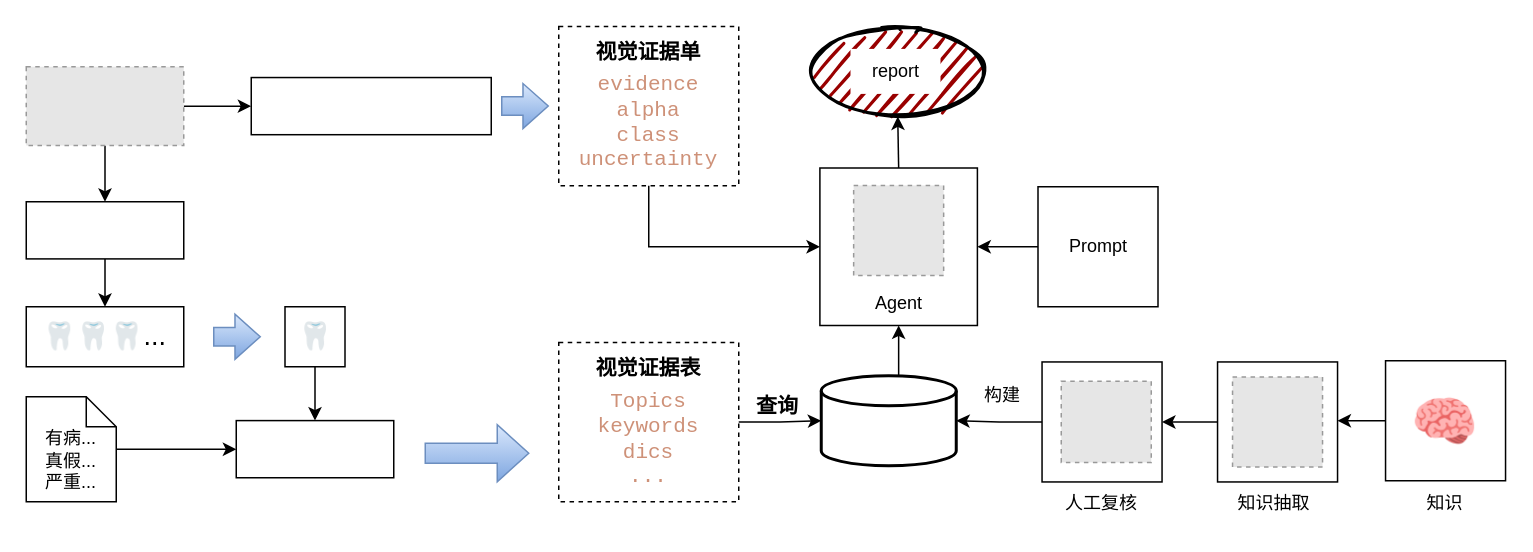
Image size: 1533x552. Some labels were removed from this diagram. Grey dashed boxes stand in for pictures. Each missing label, with the centre of its shape:
"CNN/Transformer" goes at pixel 370 105.
"VLM/LoRA" goes at pixel 314 448.
"YOLO" goes at pixel 104 229.
"知识库" goes at pixel 888 420.
